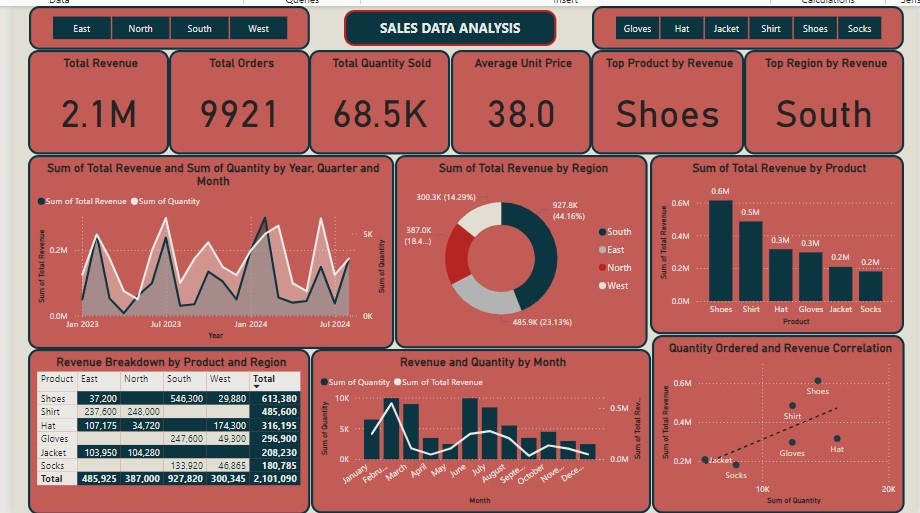

Layout of this report page (visuals, bound fields, positions):
{"tool":"powerbi","page":{"name":"Page 1","canvas":[1280,720],"ordinal":0},"visuals":[{"type":"textbox","box":[469.5,5.7,301.1,51.4],"z":0},{"type":"card","title":"Total Revenue","fields":{"Values":["Sum(SalesData.Total Revenue)"]},"box":[21.5,62.6,200.2,148.4],"z":1000},{"type":"card","title":"Total Orders","fields":{"Values":["CountNonNull(SalesData.OrderID)"]},"box":[221.2,62,199.8,148.4],"z":2000},{"type":"card","title":"Total Quantity Sold","fields":{"Values":["Sum(SalesData.Quantity)"]},"box":[420.1,62.6,200.2,148.4],"z":3000},{"type":"card","title":"Top Product by Revenue","fields":{"Values":["Min(SalesData.Product)"]},"box":[819.1,62,216.9,148.4],"z":4000},{"type":"card","title":"Top Region by Revenue","fields":{"Values":["Min(SalesData.Region)"]},"box":[1036,62,226.9,148.4],"z":5000},{"type":"card","title":"Average Unit Price","fields":{"Values":["Avg(SalesData.UnitPrice)"]},"box":[620.7,62,199,148.4],"z":6000},{"type":"areaChart","title":"Sum of Total Revenue and Sum of Quantity by Year, Quarter and Month","fields":{"Category":["SalesData.OrderDate.Variation.Date Hierarchy.Year","SalesData.OrderDate.Variation.Date Hierarchy.Quarter","SalesData.OrderDate.Variation.Date Hierarchy.Month"],"Y":["Sum(SalesData.Total Revenue)"],"Y2":["Sum(SalesData.Quantity)"]},"box":[20.6,211,519,274.6],"z":7000},{"type":"clusteredColumnChart","title":"Sum of Total Revenue by Product","fields":{"Category":["SalesData.Product"],"Y":["Sum(SalesData.Total Revenue)"]},"box":[903.2,211.1,360.3,254],"z":8000},{"type":"pivotTable","title":"Revenue Breakdown by Product and Region","fields":{"Values":["Sum(SalesData.Total Revenue)"],"Rows":["SalesData.Product"],"Columns":["SalesData.Region"]},"box":[20.6,485.7,400,234.9],"z":9000},{"type":"scatterChart","title":"Quantity Ordered and Revenue Correlation","fields":{"X":["Sum(SalesData.Quantity)"],"Y":["Sum(SalesData.Total Revenue)"],"Category":["SalesData.Product"]},"box":[905,466.7,358.3,253.3],"z":10000},{"type":"lineClusteredColumnComboChart","title":"Revenue and Quantity by Month","fields":{"Category":["SalesData.OrderDate.Variation.Date Hierarchy.Month"],"Y":["Sum(SalesData.Quantity)"],"Y2":["Sum(SalesData.Total Revenue)"]},"box":[421.7,486.7,481.7,233.3],"z":11000},{"type":"donutChart","title":"Sum of Total Revenue by Region","fields":{"Category":["SalesData.Region"],"Y":["Sum(SalesData.Total Revenue)"]},"box":[540.8,211.2,358.2,274],"z":12000},{"type":"slicer","title":"Quantity Sold by Product","fields":{"Values":["SalesData.Product"]},"box":[820,0,442,62],"z":13000},{"type":"slicer","title":"Quantity Sold by Product","fields":{"Values":["SalesData.Region"]},"box":[22,0,398,62],"z":14000}]}

Visuals, with their boxes in screenshot pixels (x1, y1, x2, y2):
textbox: box(342, 9, 553, 45)
"Total Revenue" card: box(27, 49, 168, 153)
"Total Orders" card: box(167, 48, 308, 153)
"Total Quantity Sold" card: box(307, 49, 448, 153)
"Top Product by Revenue" card: box(587, 48, 740, 153)
"Top Region by Revenue" card: box(740, 48, 899, 153)
"Average Unit Price" card: box(448, 48, 588, 153)
"Sum of Total Revenue and Sum of Quantity by Year, Quarter and Month" areaChart: box(26, 153, 391, 346)
"Sum of Total Revenue by Product" clusteredColumnChart: box(646, 153, 899, 331)
"Revenue Breakdown by Product and Region" pivotTable: box(26, 346, 307, 511)
"Quantity Ordered and Revenue Correlation" scatterChart: box(648, 333, 899, 510)
"Revenue and Quantity by Month" lineClusteredColumnComboChart: box(308, 347, 646, 510)
"Sum of Total Revenue by Region" donutChart: box(392, 153, 643, 346)
"Quantity Sold by Product" slicer: box(588, 5, 898, 48)
"Quantity Sold by Product" slicer: box(27, 5, 307, 48)
